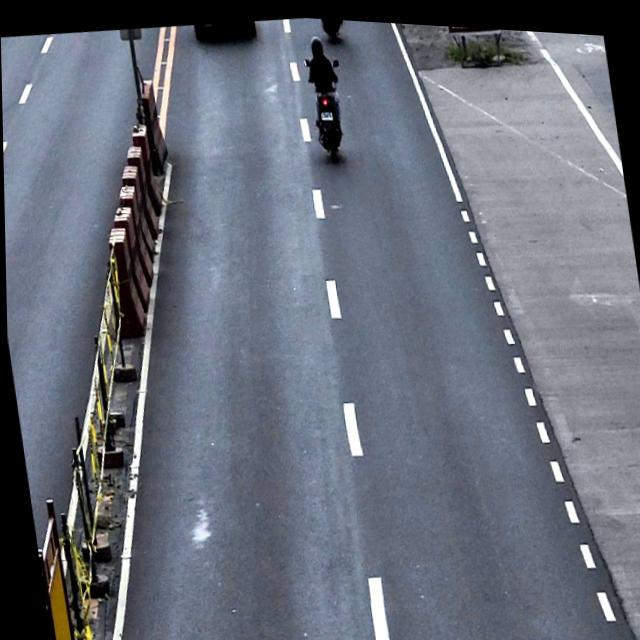License-Plate: (320, 106, 334, 117)
Motorcycle: (303, 51, 351, 158)
